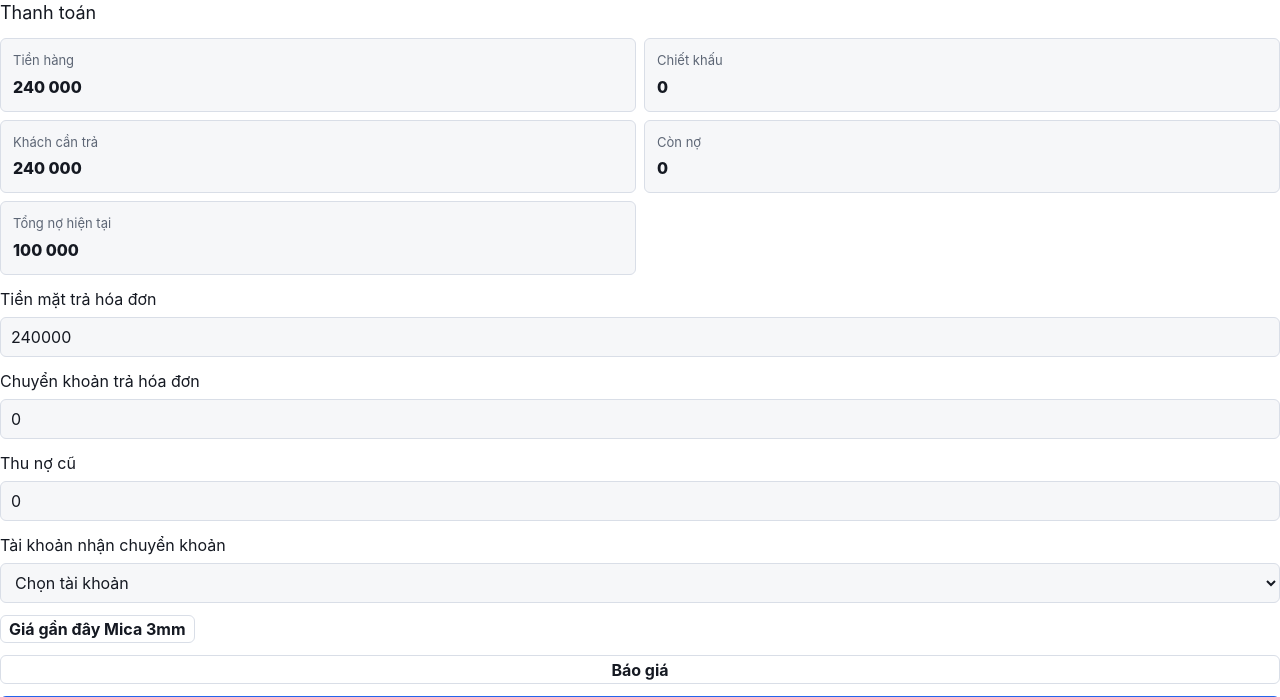
saves the current cart as a quote and shows BG code
Click the button "Báo giá" at (640, 670), box [0,655,1279,684]
(page scrolled)
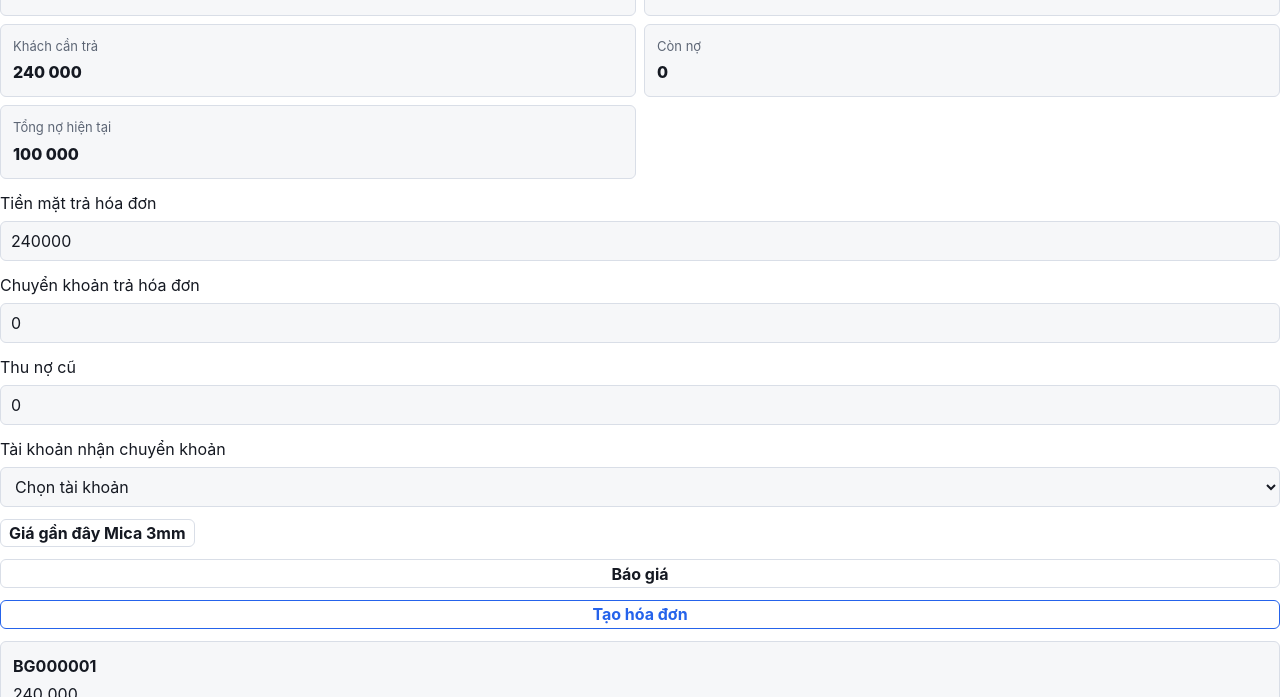
expect the element named "Kết quả báo giá" shows "BG000001": met, box [13,656,96,676]
